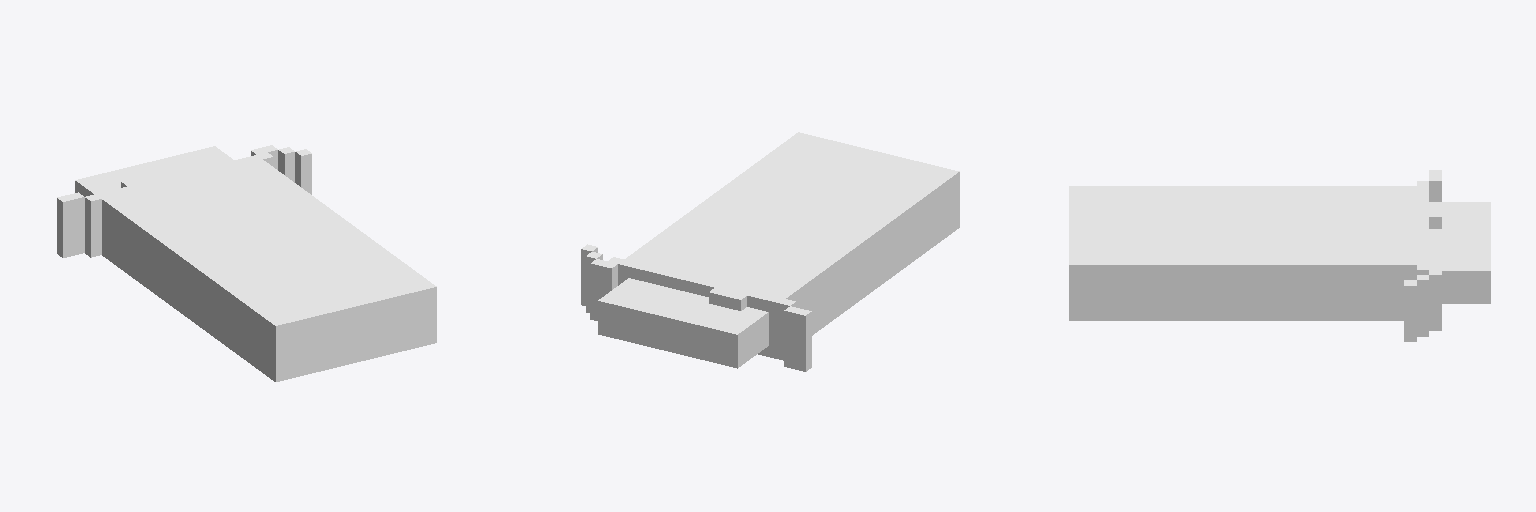
The model's file is SpeedChoc.obj.
3 views of the same model, side by side, from view 1: azimuth 30°, elevation 25°; view 2: azimuth 150°, elevation 25°; view 3: azimuth 270°, elevation 25° (orthographic).
Size of the model in its own units: 22 by 5 by 34.